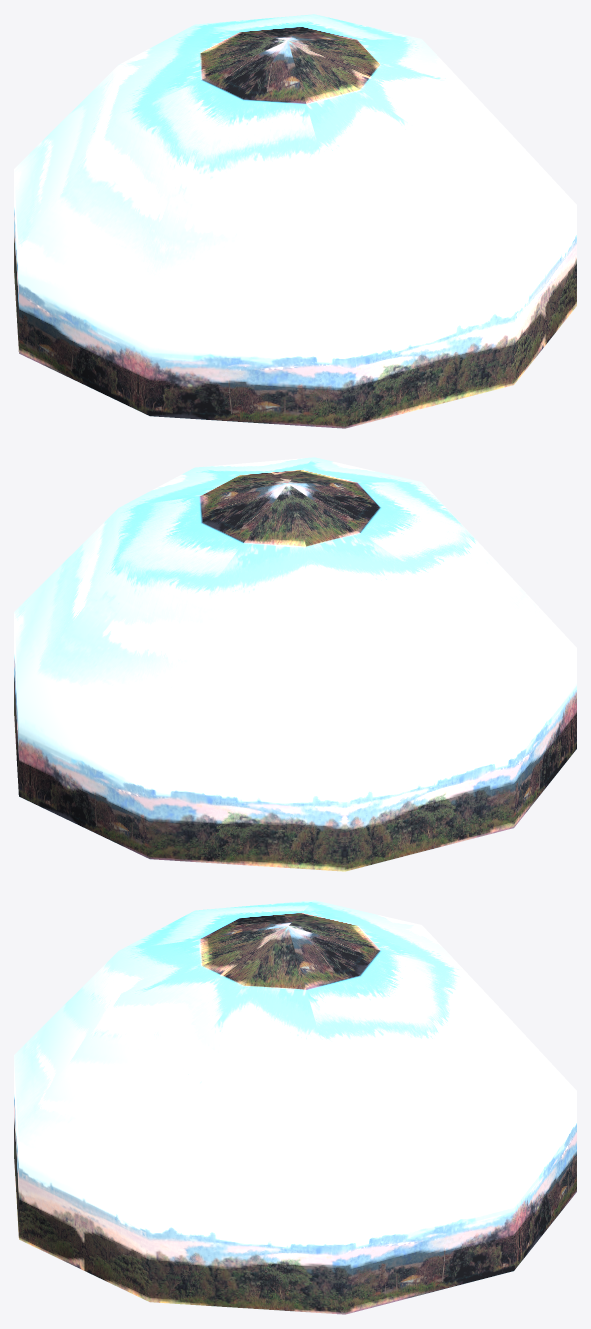
Rendered from Ponto de circular_if.fbx.
3 renders of one model, top to bottom at view 1: azimuth 30°, elevation 25°; view 2: azimuth 150°, elevation 25°; view 3: azimuth 270°, elevation 25°, orthographic.
Parts seen in each view (by area): view 1: Sphere.004; view 2: Sphere.004; view 3: Sphere.004.
Part boxes in pixels (left/top/right/bottom): Sphere.004: left=14, top=14, right=576, bottom=428; Sphere.004: left=14, top=457, right=576, bottom=871; Sphere.004: left=14, top=900, right=576, bottom=1314.
Size of the model in its own units: 35265 by 18452 by 34882.
